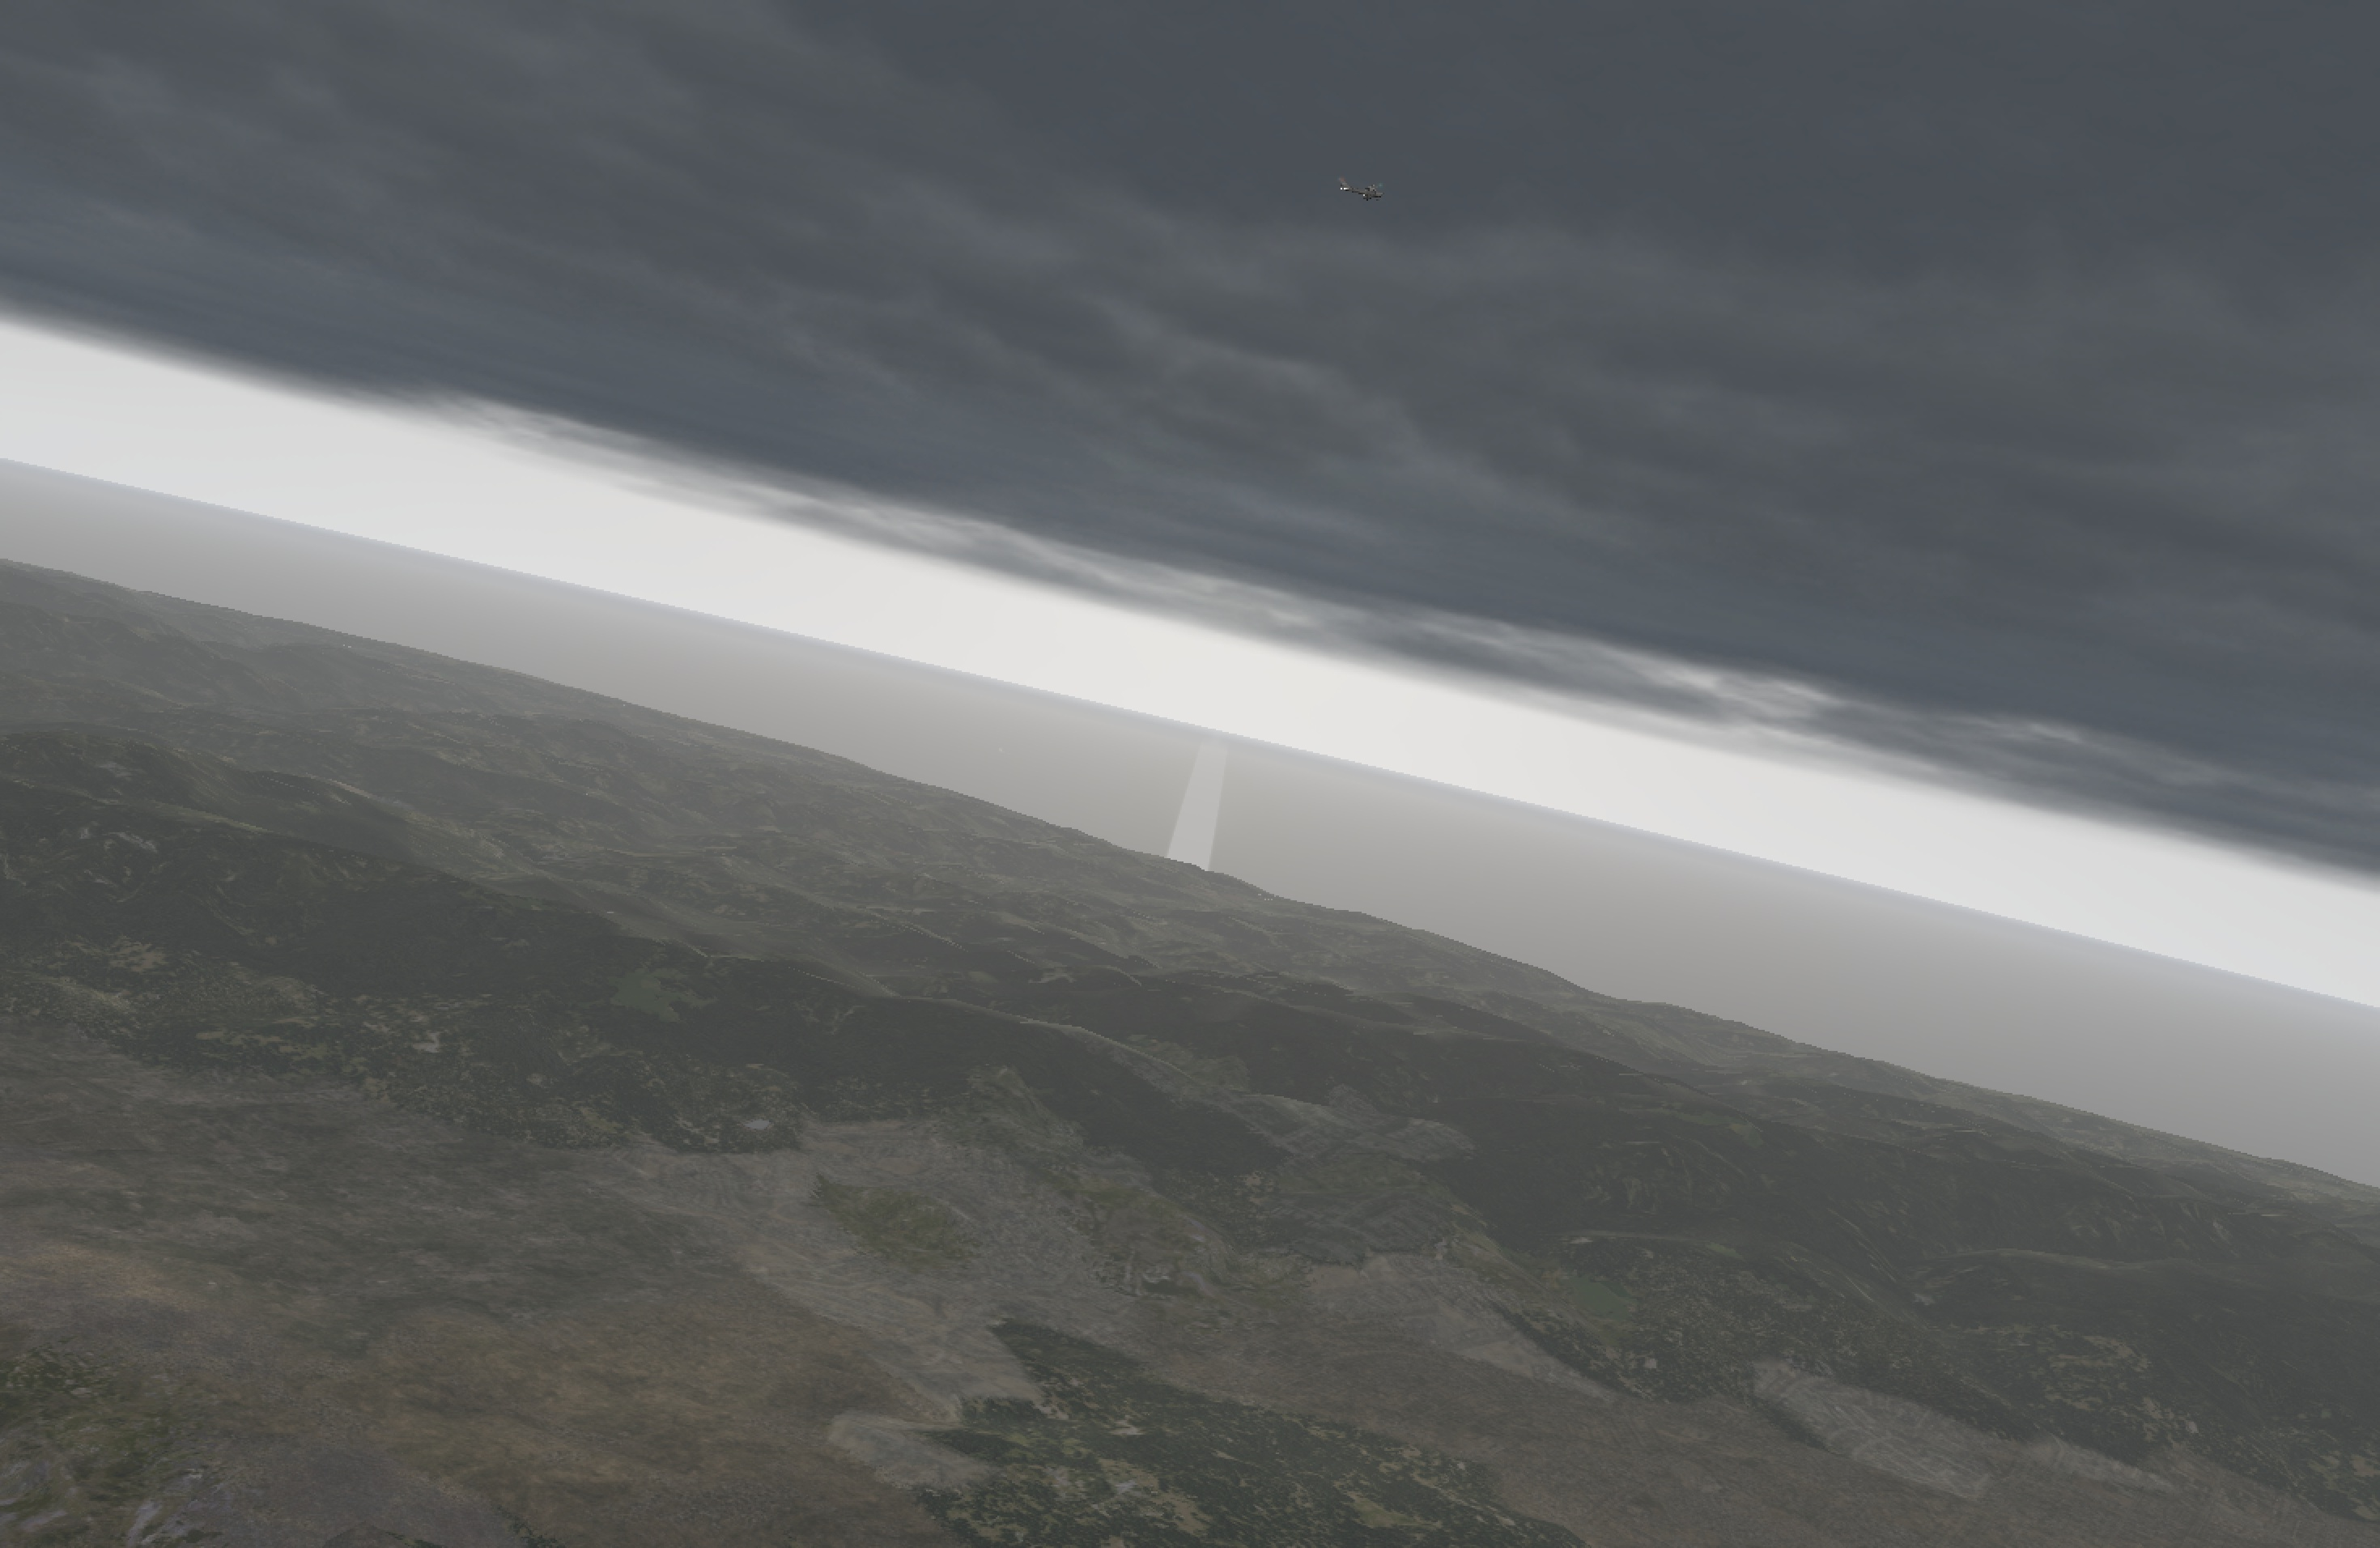aircraft: (1350, 184, 1393, 200)
